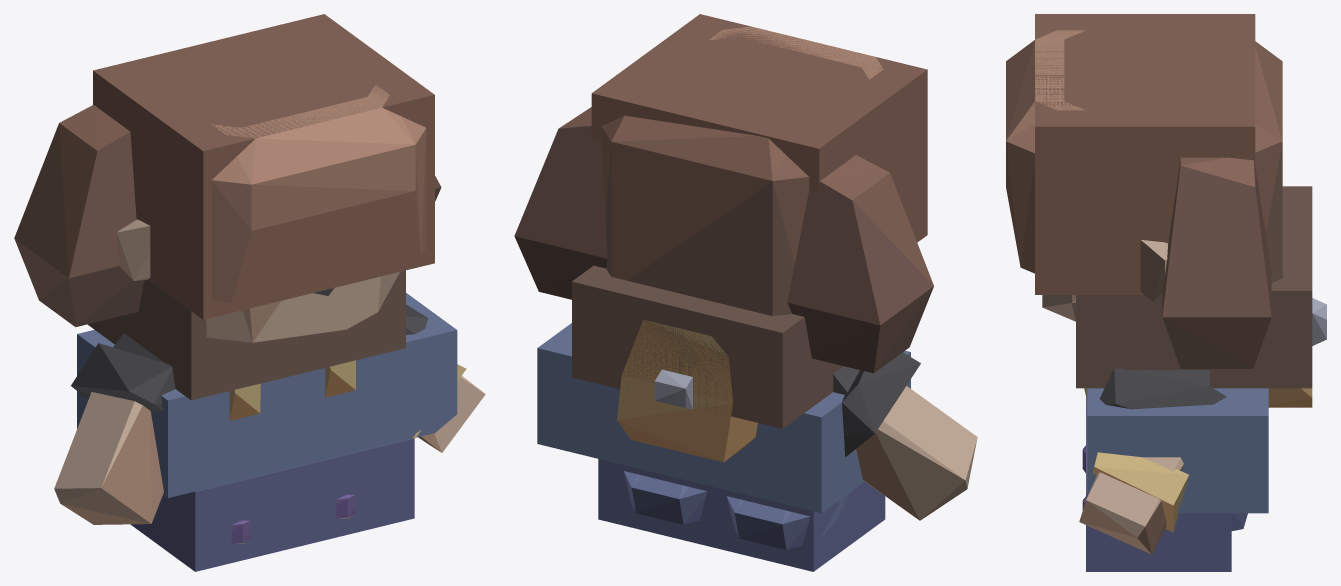
File: person.female-f.glb
3 renders of one model, left to right at view 1: azimuth 30°, elevation 25°; view 2: azimuth 150°, elevation 25°; view 3: azimuth 270°, elevation 25°, orthographic.
Parts seen in each view (by area): view 1: far, near; view 2: near, far; view 3: far, near.
Boxes of the visible parts, x1,y1,x2,y2 form: far: [77, 14, 457, 571]; near: [14, 31, 485, 543]; near: [514, 27, 977, 549]; far: [537, 14, 927, 571]; far: [1035, 14, 1312, 571]; near: [1006, 30, 1326, 554].
Bounding box in the file's own units: 1.68 × 1.7 × 1.12.
